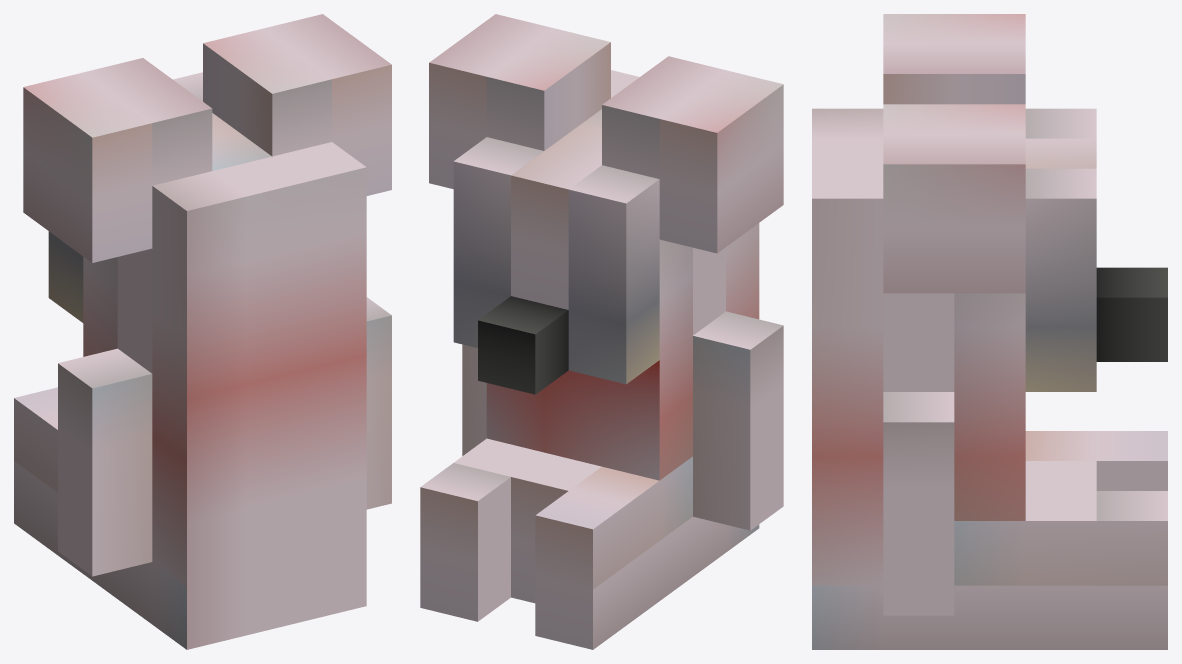
The model's file is PlushPink_01.fbx.
The picture shows the model from 3 angles, left to right: view 1: azimuth 30°, elevation 25°; view 2: azimuth 150°, elevation 25°; view 3: azimuth 270°, elevation 25°; orthographic projection. The views are drawn at different scales.
Visible parts, largest first — view 1: PlushPink_01; view 2: PlushPink_01; view 3: PlushPink_01.
Part boxes in pixels (bbox=[...]): PlushPink_01: bbox=[14, 14, 391, 649]; PlushPink_01: bbox=[420, 14, 783, 649]; PlushPink_01: bbox=[812, 14, 1167, 649].
Bounding box in the file's own units: 25 × 25 × 40.
1 material, 1 textured.
